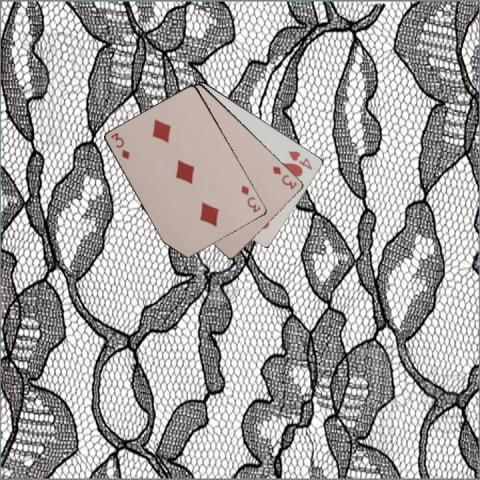3d: (269, 162, 299, 191), (239, 182, 262, 214), (108, 130, 131, 162)
4h: (285, 148, 314, 171)
